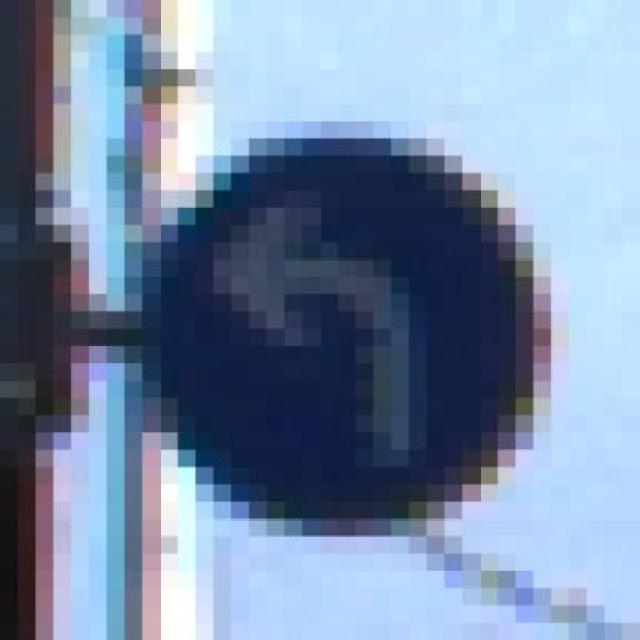Turn left ahead: (142, 121, 569, 536)
